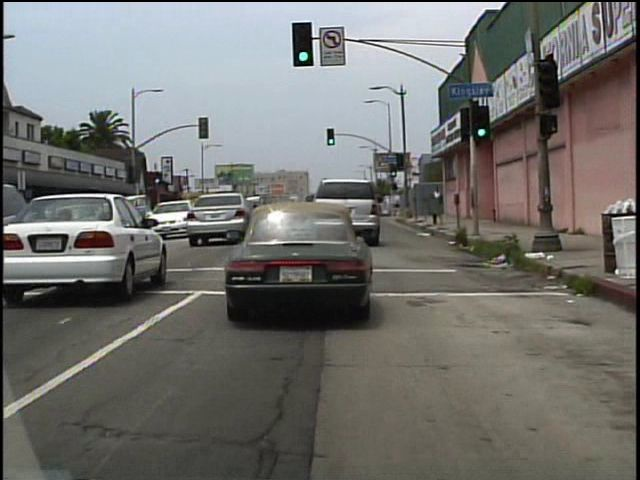person: (431, 184, 444, 216)
